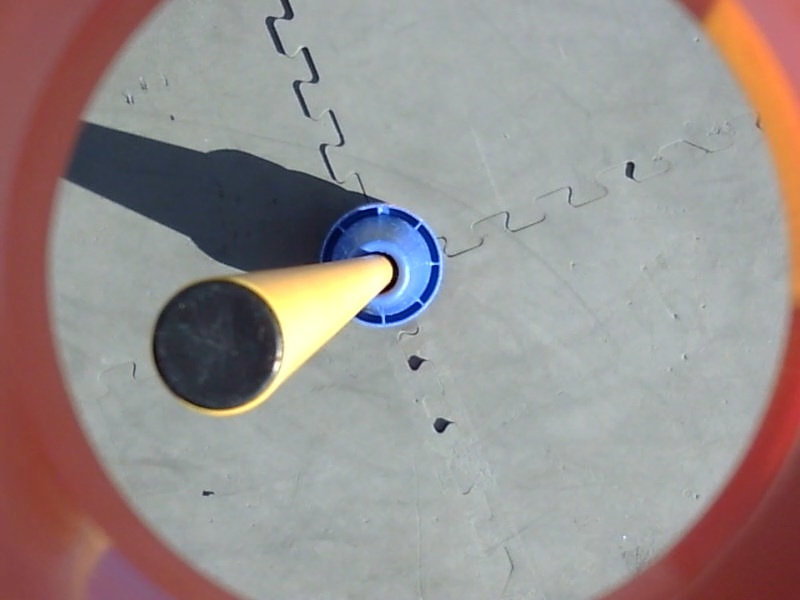tip: (141, 271, 288, 421)
